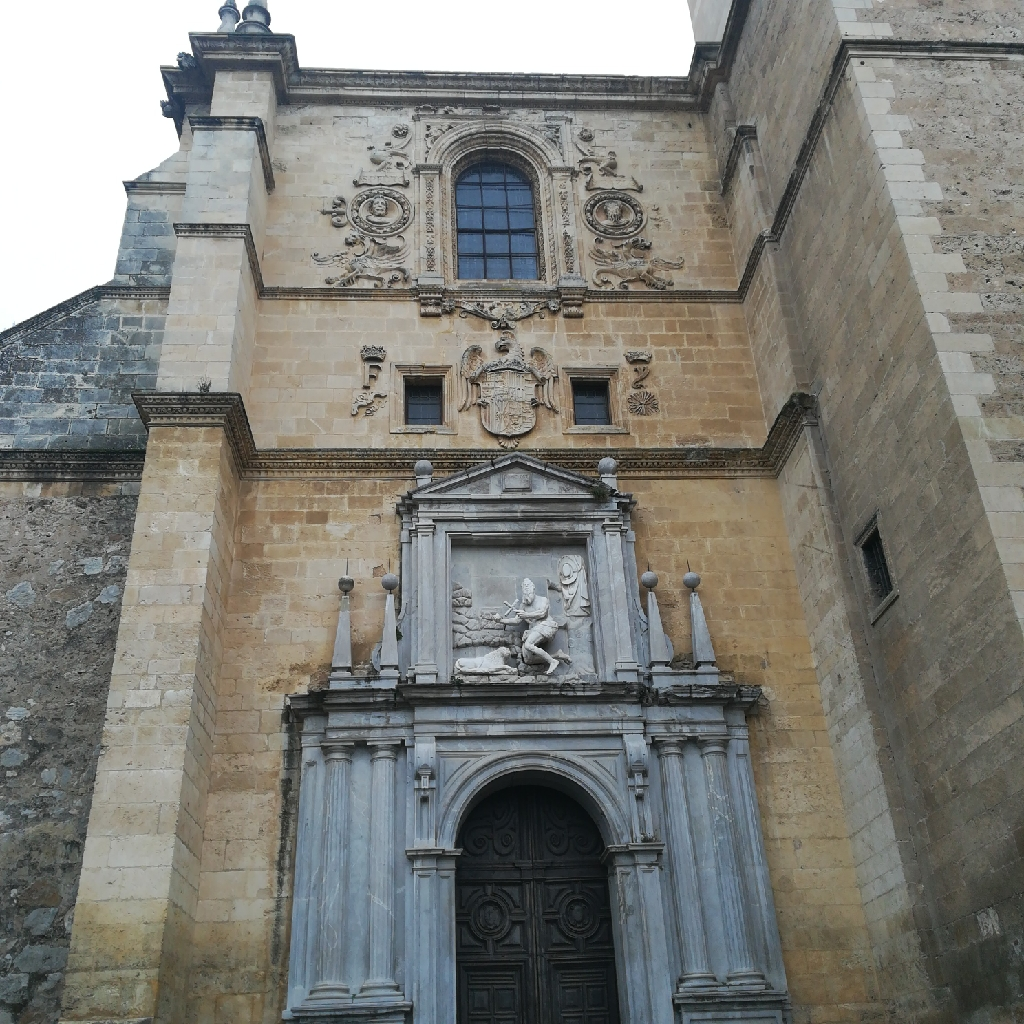arco-medio-punto: (436, 753, 625, 876), (436, 124, 551, 197)
fronton: (401, 450, 607, 506)
vano-adintelado: (430, 514, 611, 690)
